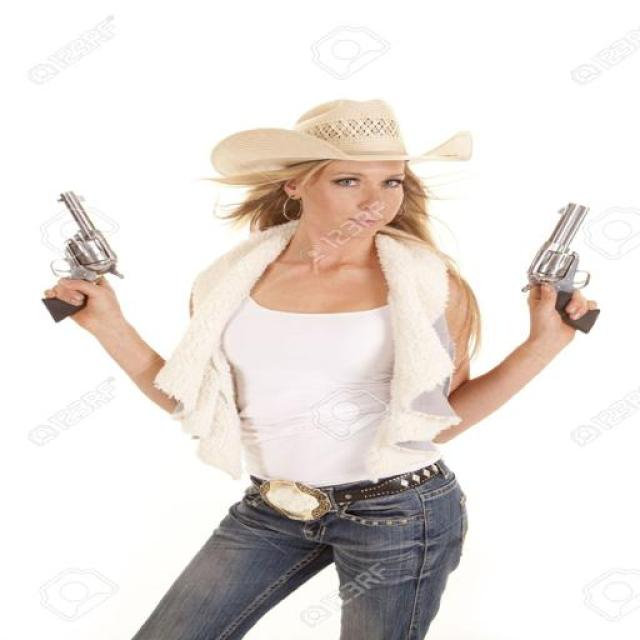pistol: (30, 188, 124, 324), (522, 202, 605, 336)
